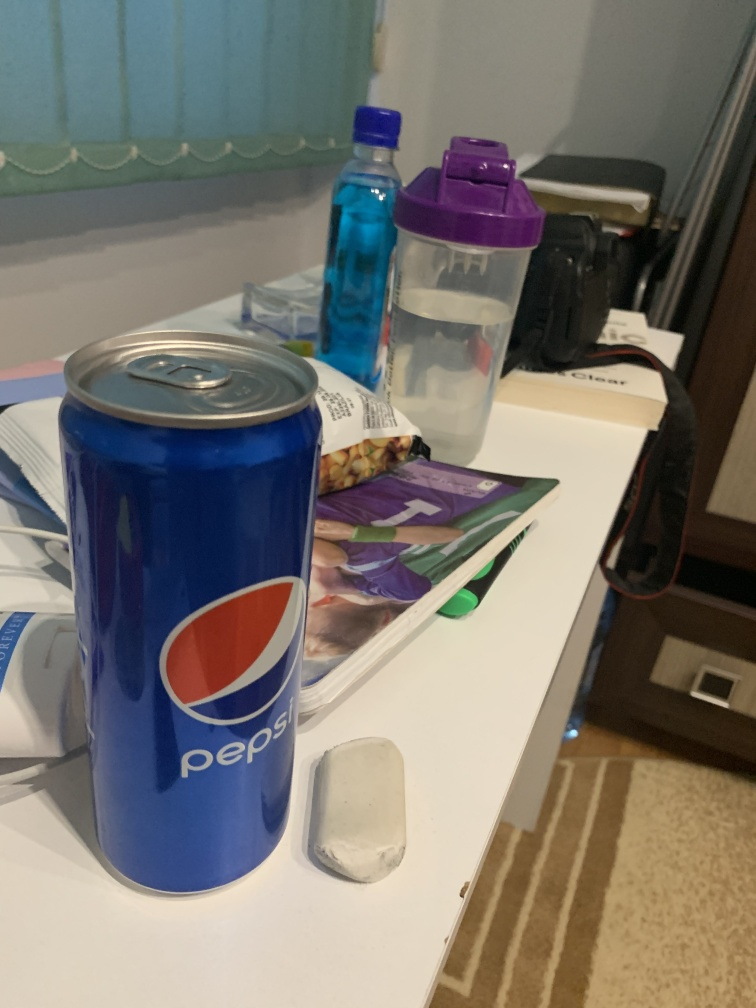pepsi: (57, 327, 325, 907)
